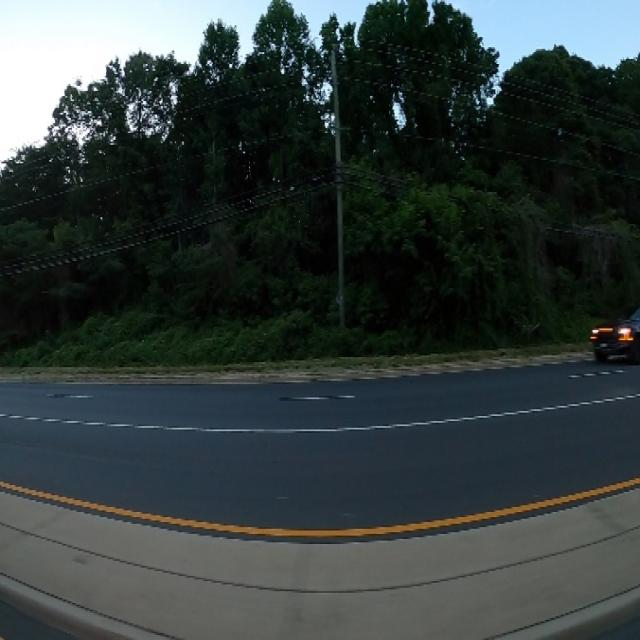Cars: (587, 305, 640, 378)
